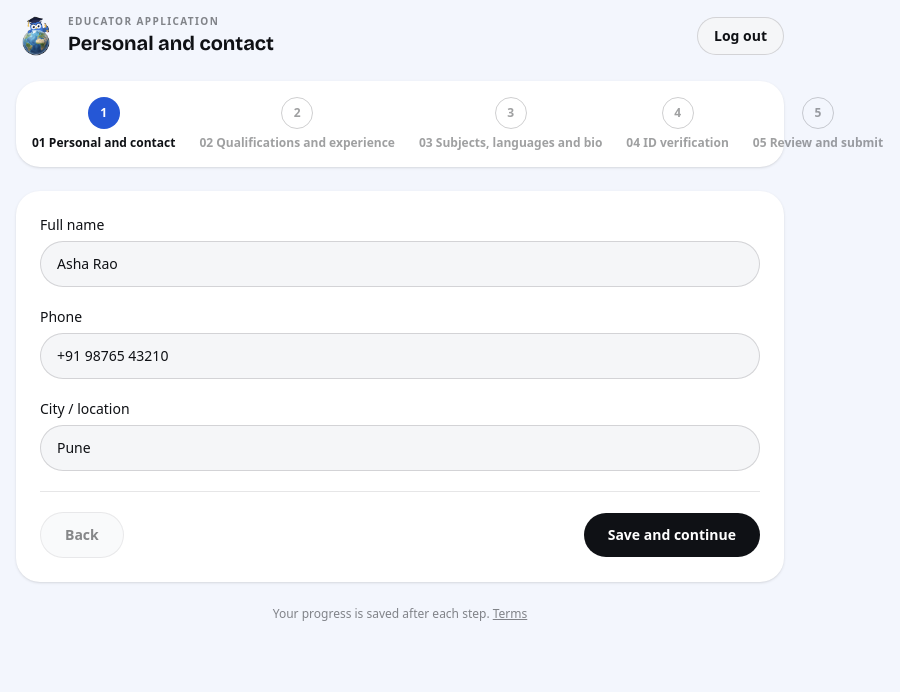
onboarding validation and resume › shows the server's field errors when a save is refused
expect the heading "Personal and contact" is shown: met, box x1=68 y1=29 x2=274 y2=57
Click the button "Save and continue".
click(672, 535)  # box x1=584 y1=513 x2=760 y2=557
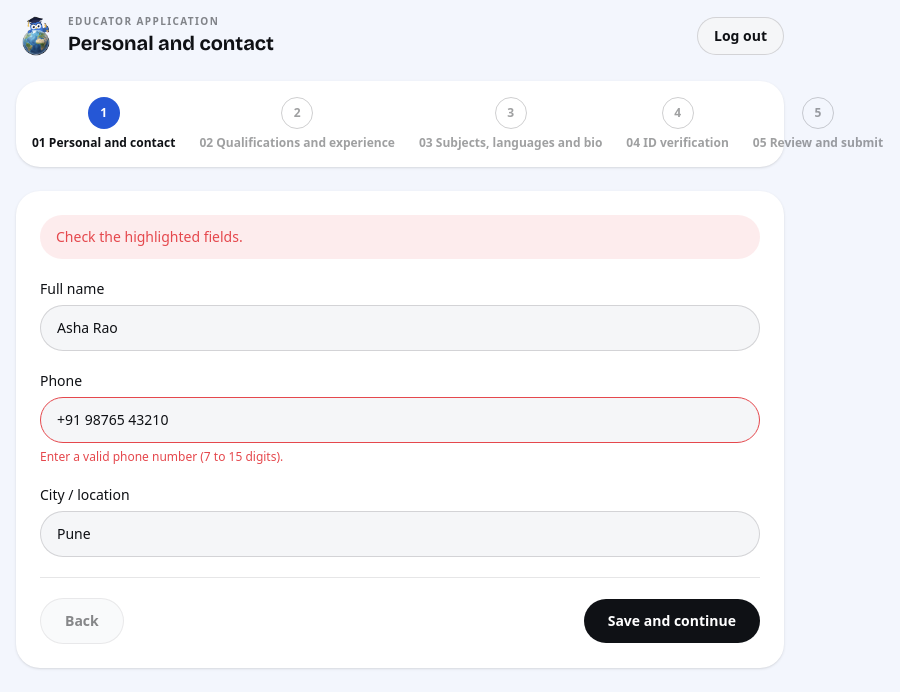
expect the text "Enter a valid phone number (7 to 15 digits)." is shown: met, box x1=40 y1=448 x2=283 y2=465
expect the message reads "Check the highlighted fields.": met, box x1=56 y1=227 x2=243 y2=246
